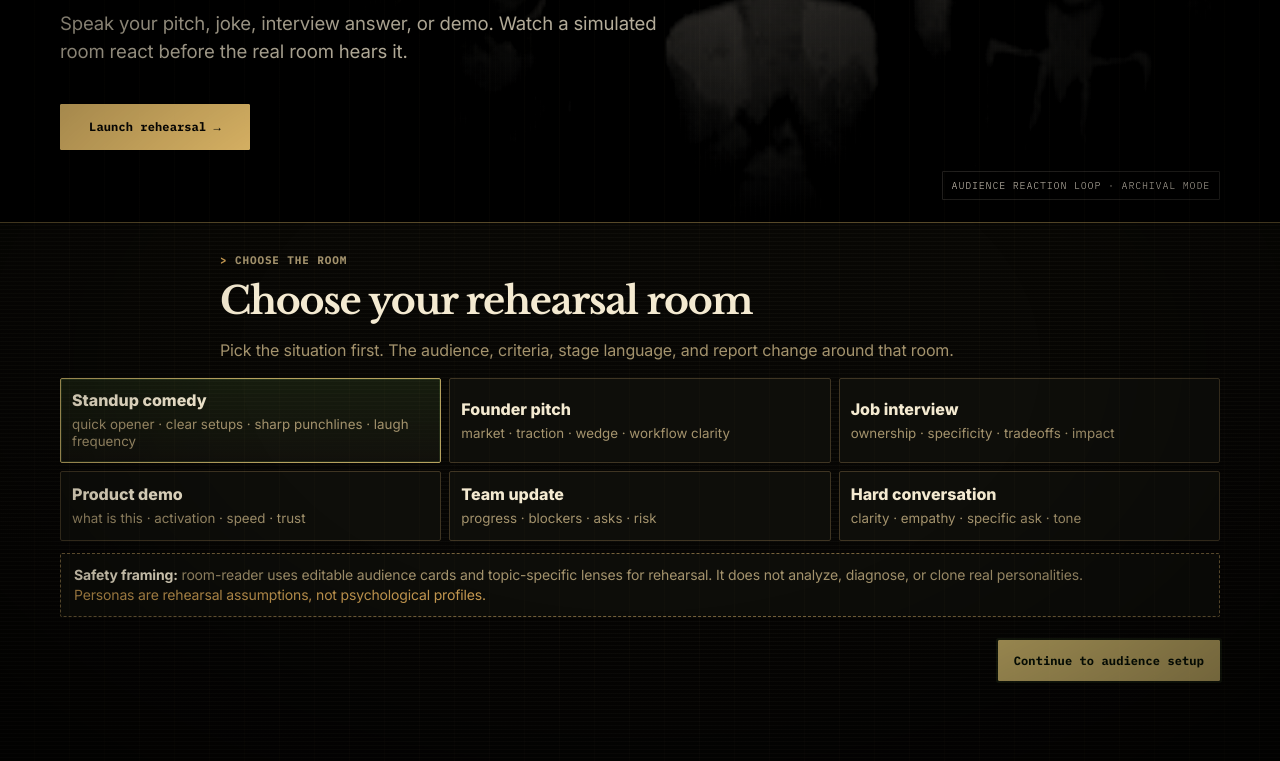
Test: room-reader rendered page › keeps textarea fallback usable when Web Speech API is unsupported in the room step
(page scrolled)
Click the button "Continue to audience setup" at (1109, 660), box [998,640,1220,681]
(page scrolled)
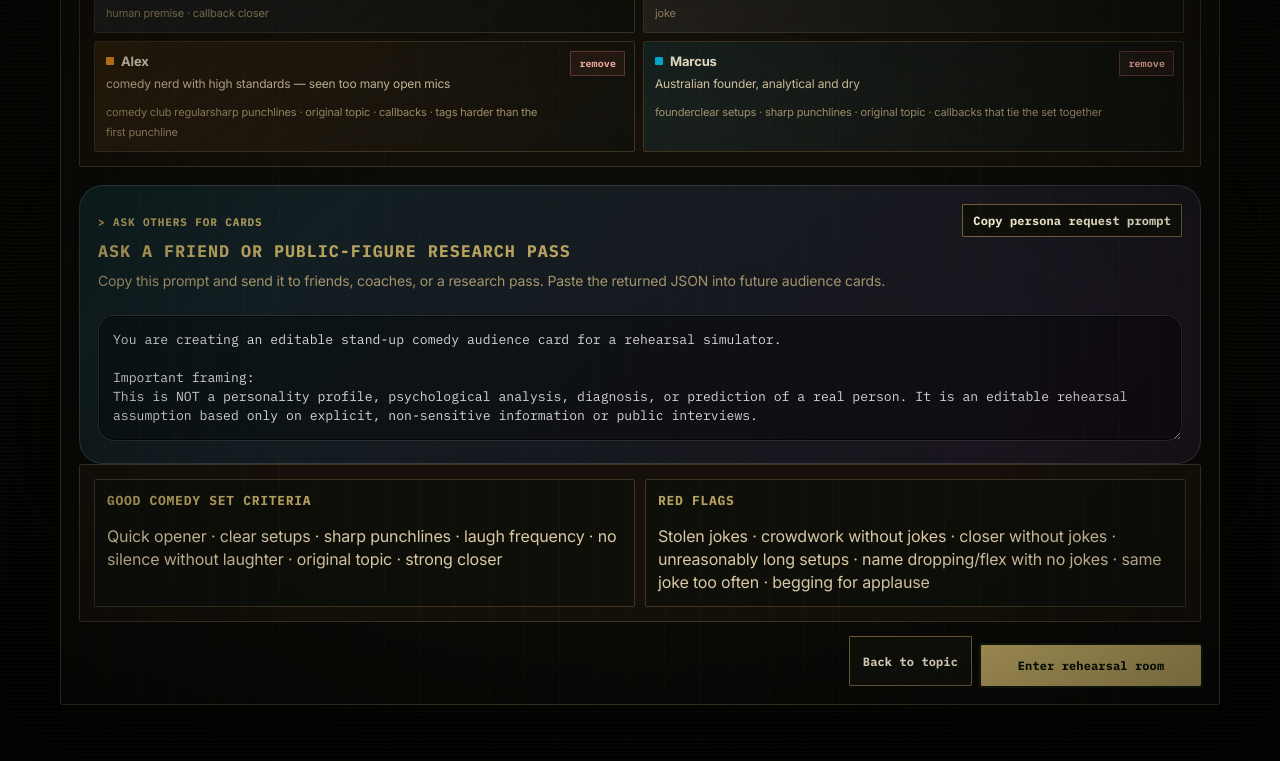
Click the button "Enter rehearsal room" at (1091, 666), box [981,645,1201,686]
(page scrolled)
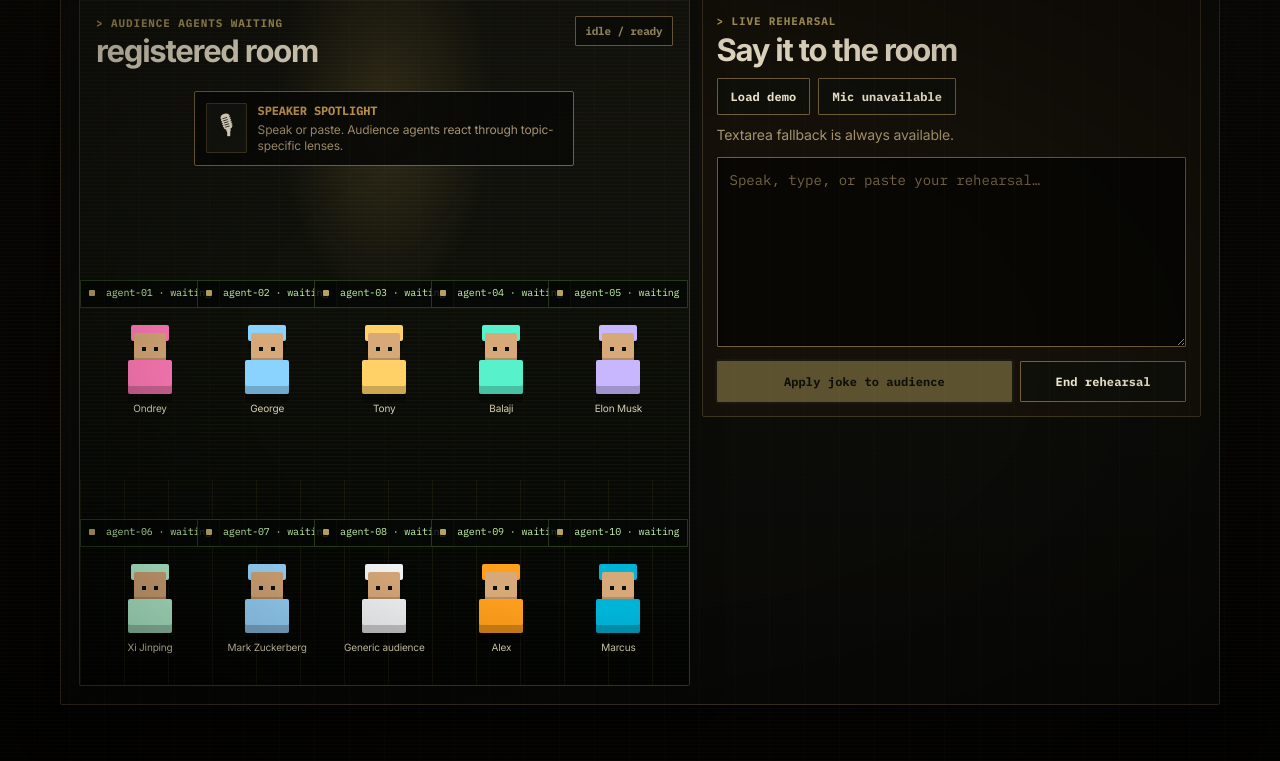
Result: the text box named "rehearsal transcript textarea fallback" is enabled at [716,156,1186,346]
Result: the button "Mic unavailable" is shown at [818,78,956,115]
